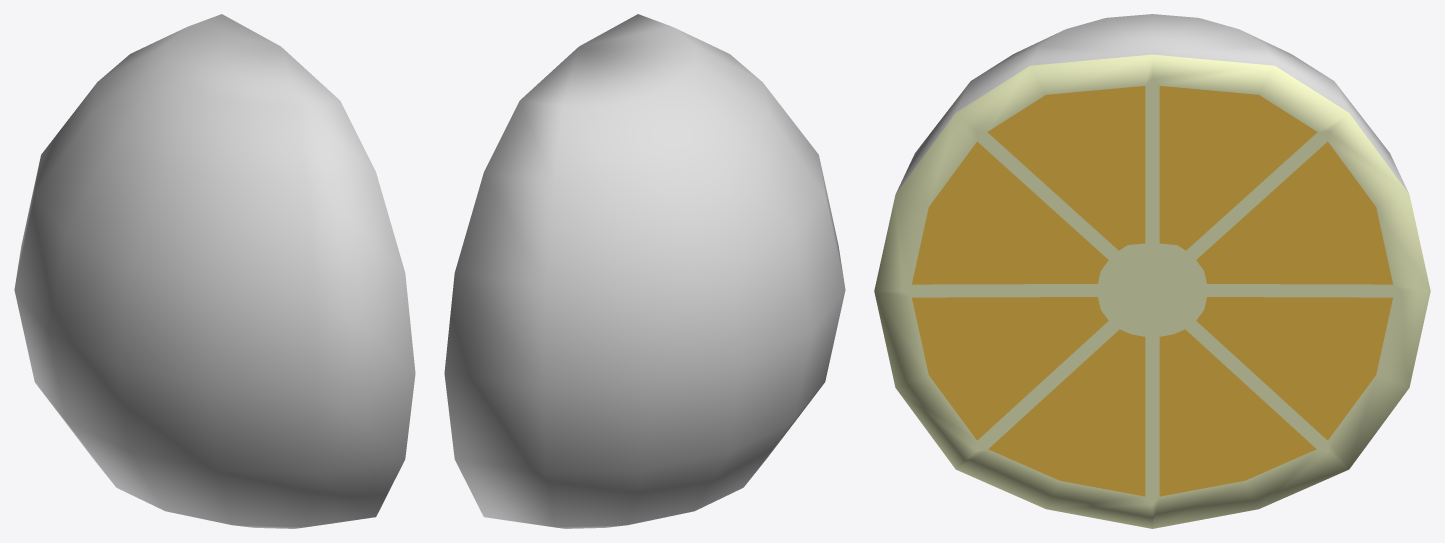
The model's file is orange-semi.fbx.
3 renders of one model, left to right at view 1: azimuth 30°, elevation 25°; view 2: azimuth 150°, elevation 25°; view 3: azimuth 270°, elevation 25°, orthographic. The views are drawn at different scales.
Parts seen in each view (by area): view 1: Orange-semi; view 2: Orange-semi; view 3: Orange-semi.
Boxes of the visible parts, x1,y1,x2,y2 form: Orange-semi: [14, 14, 415, 528]; Orange-semi: [444, 14, 845, 528]; Orange-semi: [874, 14, 1430, 528].
Bounding box in the file's own units: 100 × 188 × 200.
